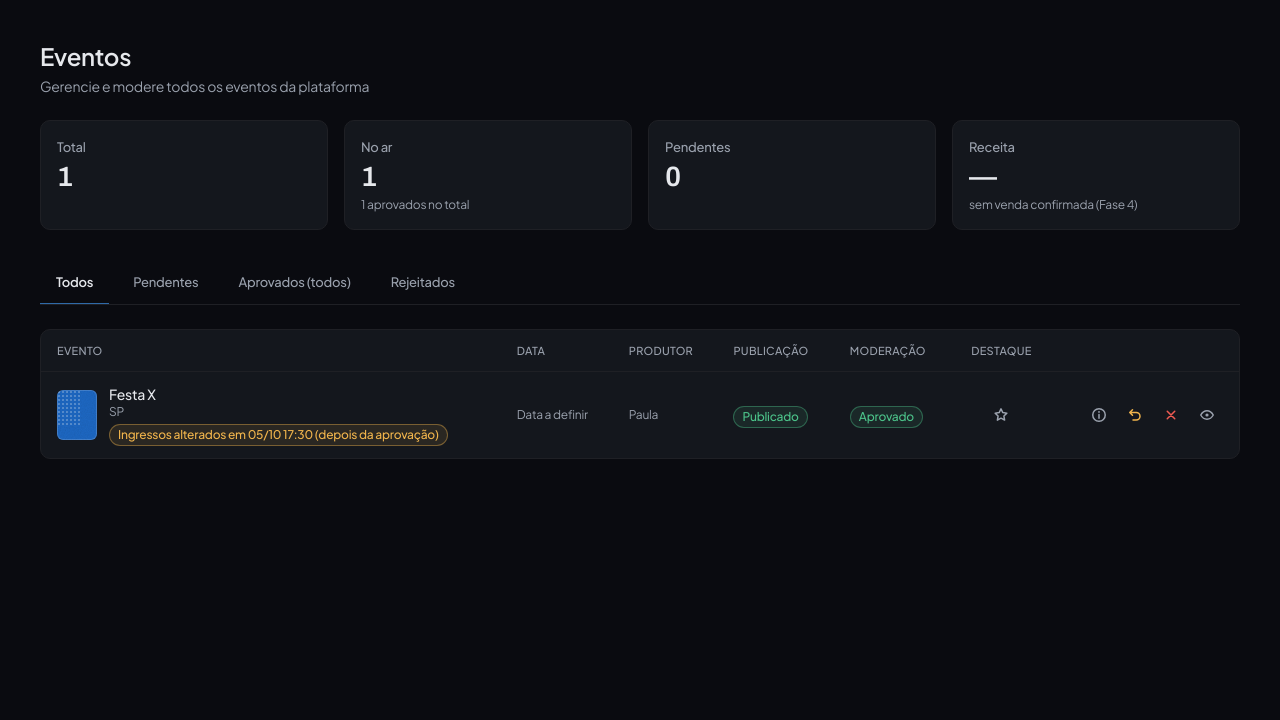
Scenario: detalhe do evento na moderação (S8) › transmissão inválida mostra "link inválido"
What coordinates should you click on to do the following:
click the button named "Ver detalhes do evento"
I would click on:
 (1099, 415)
Its box is [1083, 399, 1115, 431].
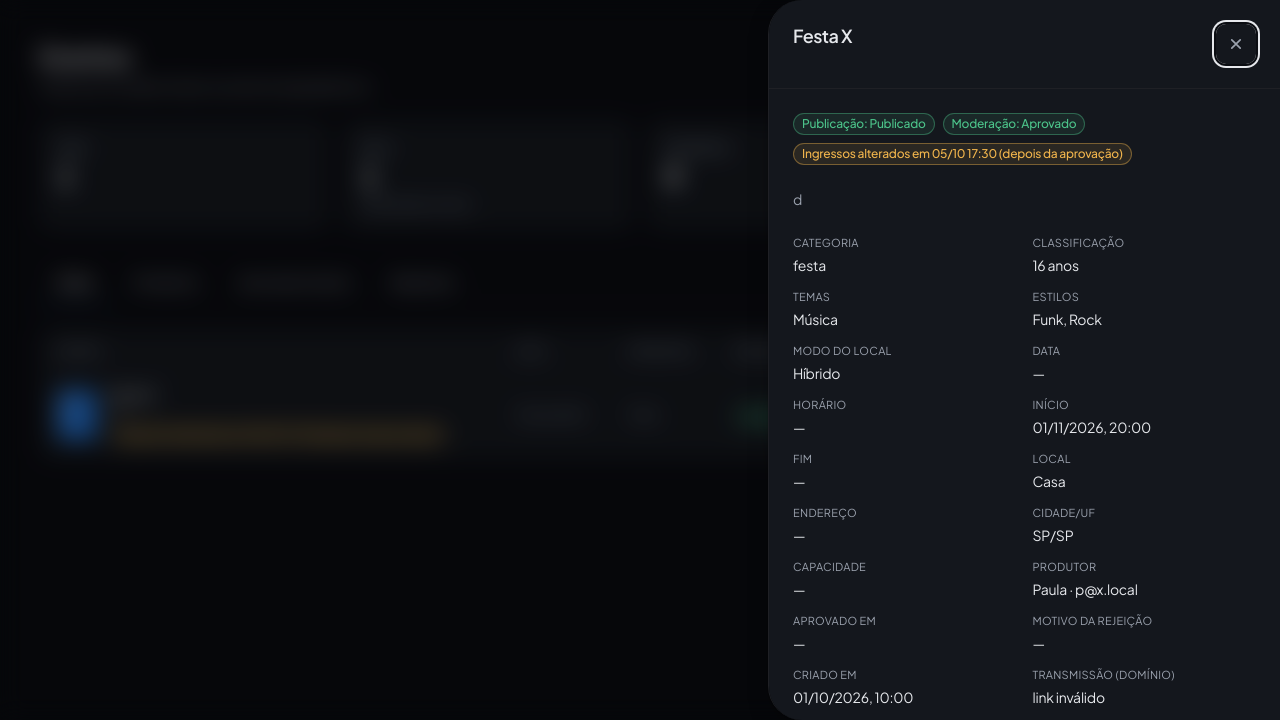
Result: the text "link inválido" is shown at [1032, 688, 1105, 706]
